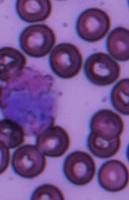E: (1, 62, 60, 136)
